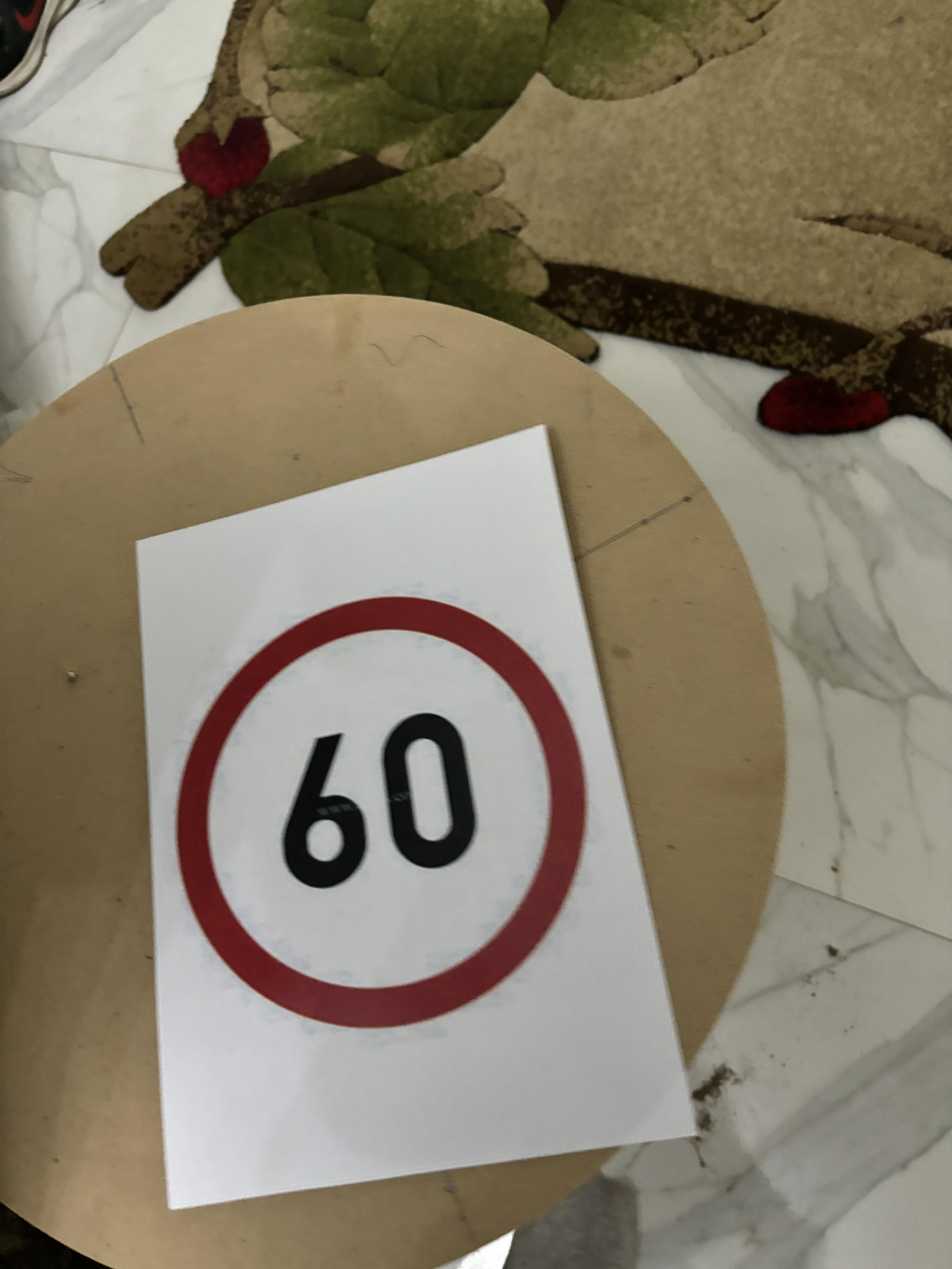60-Speed: (163, 587, 607, 1041)
